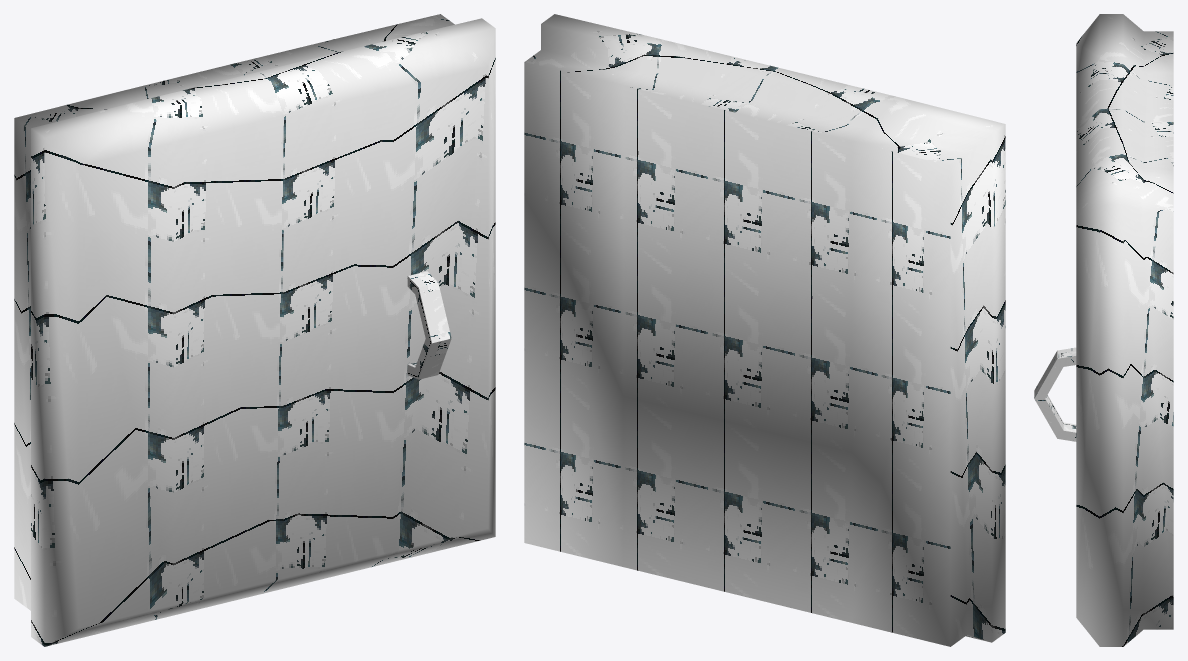
The model's file is FridgeDoorBottom.FBX.
The picture shows the model from 3 angles, left to right: view 1: azimuth 30°, elevation 25°; view 2: azimuth 150°, elevation 25°; view 3: azimuth 270°, elevation 25°; orthographic projection. The views are drawn at different scales.
Parts seen in each view (by area): view 1: FridgeDoorBottom; view 2: FridgeDoorBottom; view 3: FridgeDoorBottom.
Boxes of the visible parts, left/top/right/bottom form: FridgeDoorBottom: left=14, top=14, right=495, bottom=646; FridgeDoorBottom: left=524, top=14, right=1005, bottom=646; FridgeDoorBottom: left=1034, top=14, right=1173, bottom=646.
Size of the model in its own units: 1.58 by 0.487 by 1.71.
Materials: 1 (1 with a texture image).
